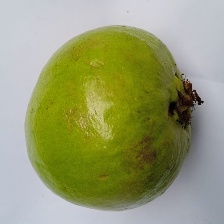guava: (15, 33, 174, 219)
